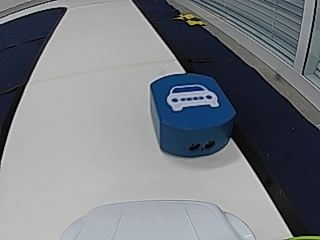safety: (165, 85, 221, 112)
